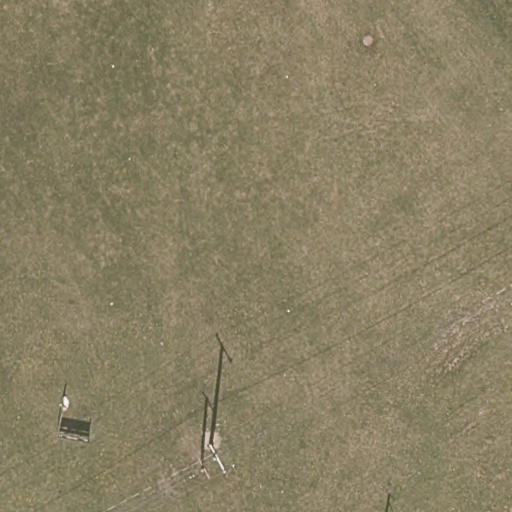DT: (207, 442, 231, 479)
